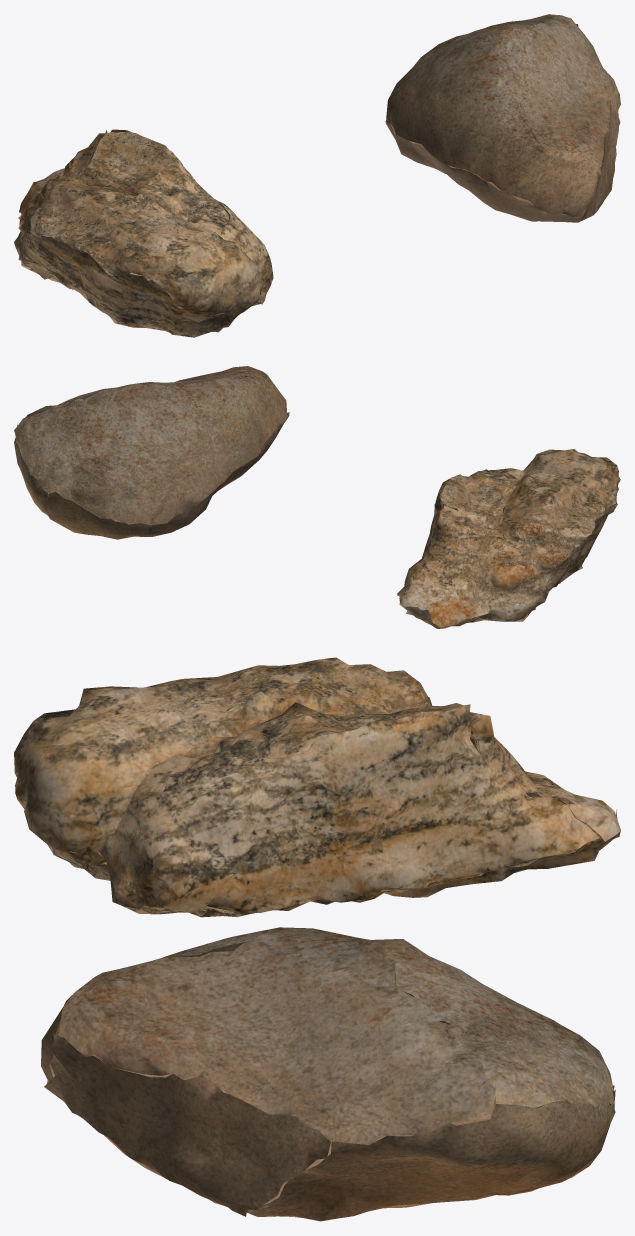
Rendered from boulders.glb.
3 renders of one model, top to bottom at view 1: azimuth 30°, elevation 25°; view 2: azimuth 150°, elevation 25°; view 3: azimuth 270°, elevation 25°, orthographic. The views are drawn at different scales.
Visible parts, largest first — view 1: namaqualand_rocks_01_a; view 2: namaqualand_rocks_01_a; view 3: namaqualand_rocks_01_a.
Boxes of the visible parts, x1,y1,x2,y2 form: namaqualand_rocks_01_a: [14, 14, 620, 337]; namaqualand_rocks_01_a: [14, 366, 620, 628]; namaqualand_rocks_01_a: [14, 657, 620, 1221].
Size of the model in its own units: 1.06 by 0.2525 by 0.5828.
Materials: 1 (1 with a texture image).
